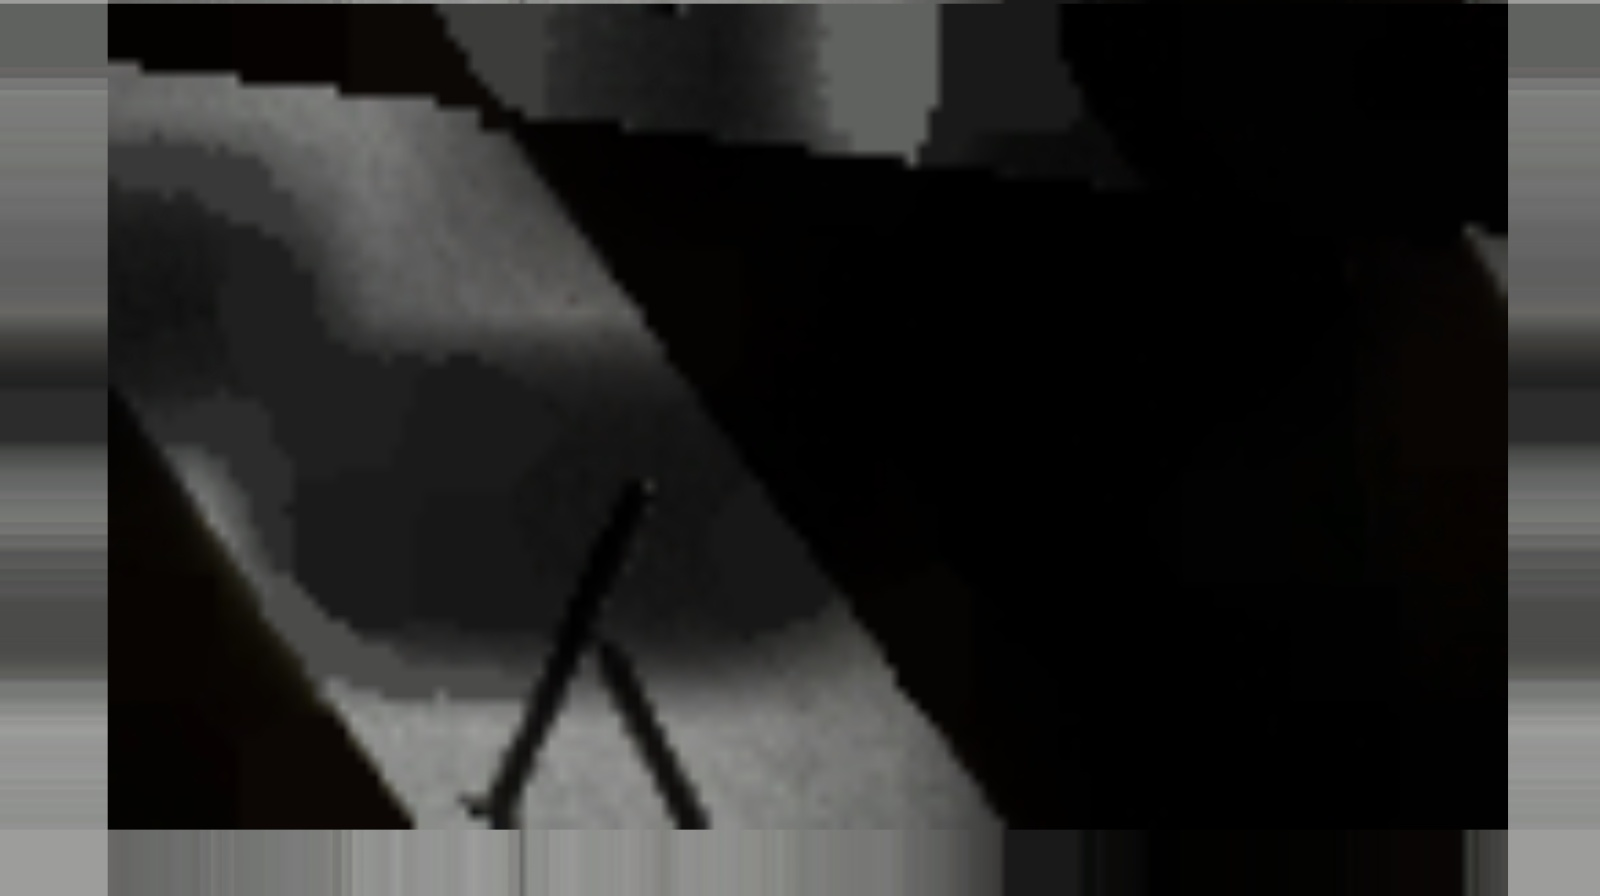S001: (589, 633, 786, 895)
S002: (432, 447, 676, 869)
